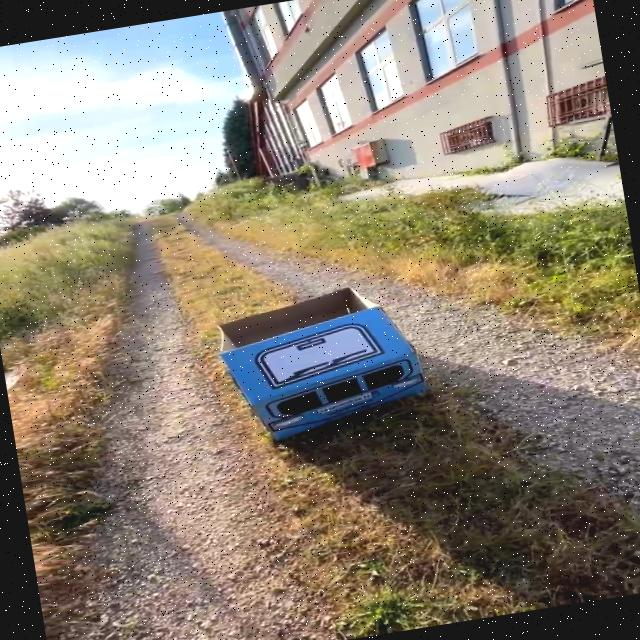blue_car: (163, 237, 486, 496)
